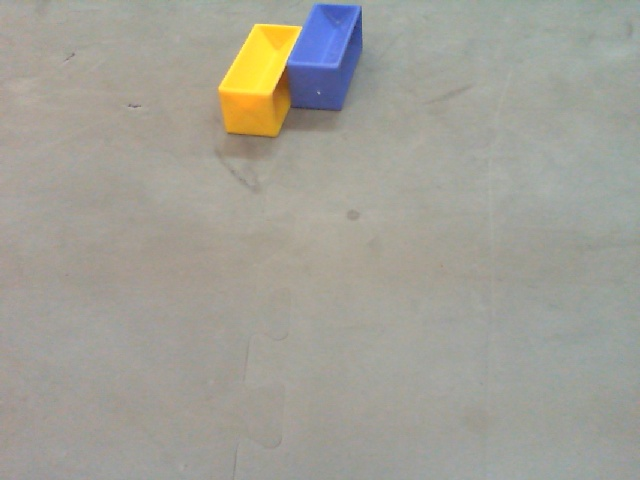BlueSample: (288, 4, 365, 113)
YellowSample: (217, 23, 301, 146)
